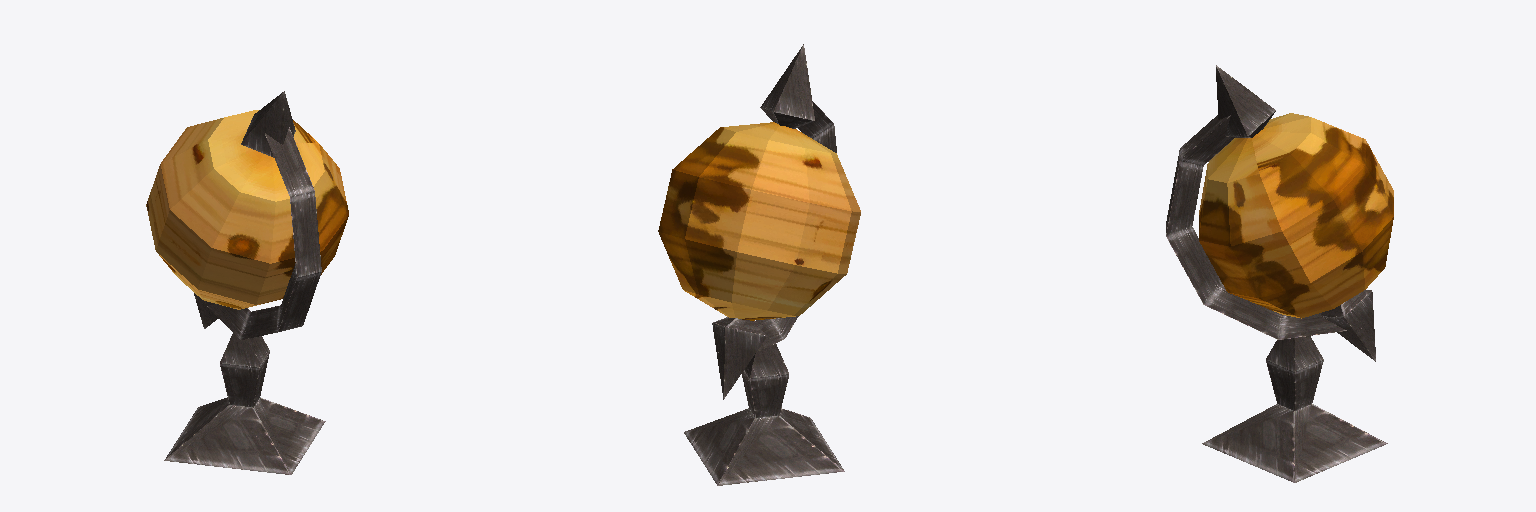
3 renders of one model, left to right at view 1: azimuth 30°, elevation 25°; view 2: azimuth 150°, elevation 25°; view 3: azimuth 270°, elevation 25°, orthographic.
Visible parts, largest first — view 1: globe01; view 2: globe01; view 3: globe01.
Part boxes in pixels (bbox=[...]): globe01: bbox=[146, 91, 348, 474]; globe01: bbox=[658, 44, 860, 485]; globe01: bbox=[1166, 65, 1393, 482].
Size of the model in its own units: 0.786 by 1.68 by 0.9147.
Materials: 2 (2 with a texture image).